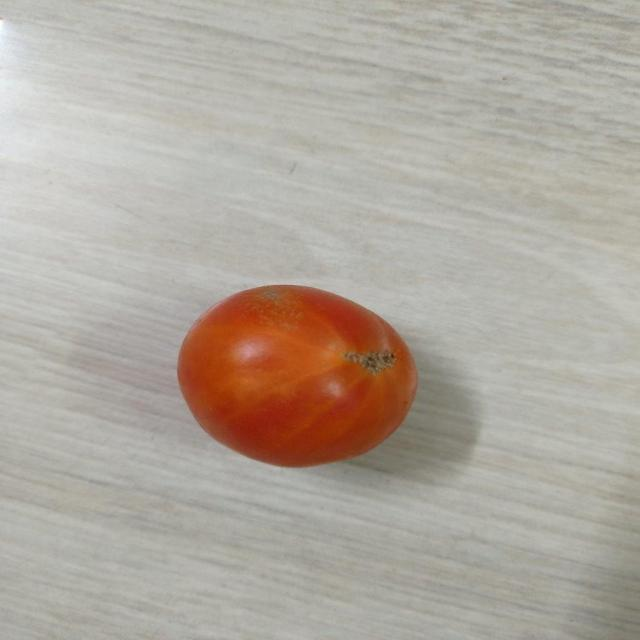Tomato: (173, 279, 427, 473)
